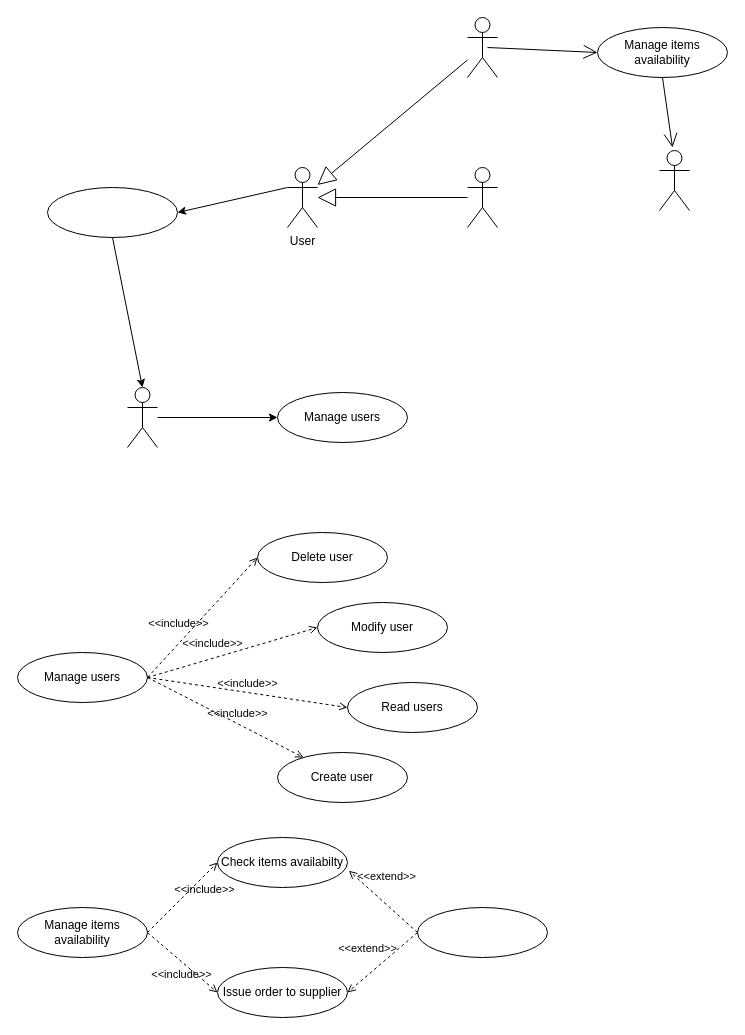
This 745x1035 diagram has some shape labels left out. The shapes that lost their labels are listed below. From the top down, each one's centre as x and y in pixels, then its label:
the point at 482,47: Manager
the point at 482,197: Employee
the point at 674,180: Payment Service
the point at 112,212: Modify user account
the point at 142,417: Administrator
the point at 482,932: Check all suppliers per item
